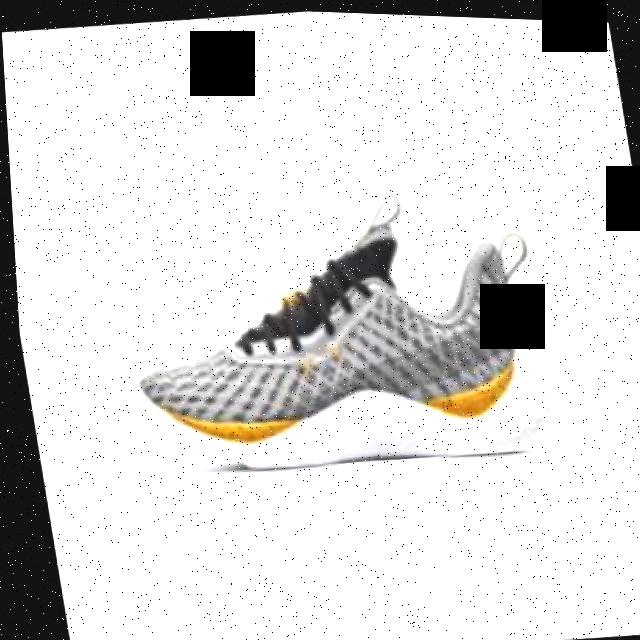shoe: (105, 169, 566, 487)
